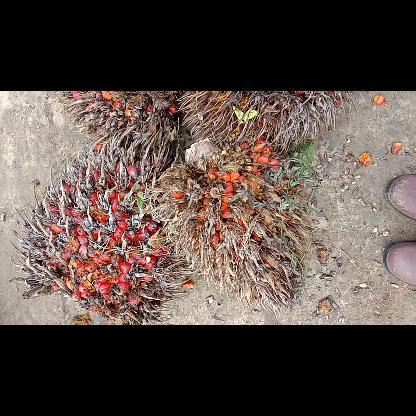Terlalu masak: (143, 127, 329, 320), (10, 148, 186, 324), (48, 91, 184, 163)
